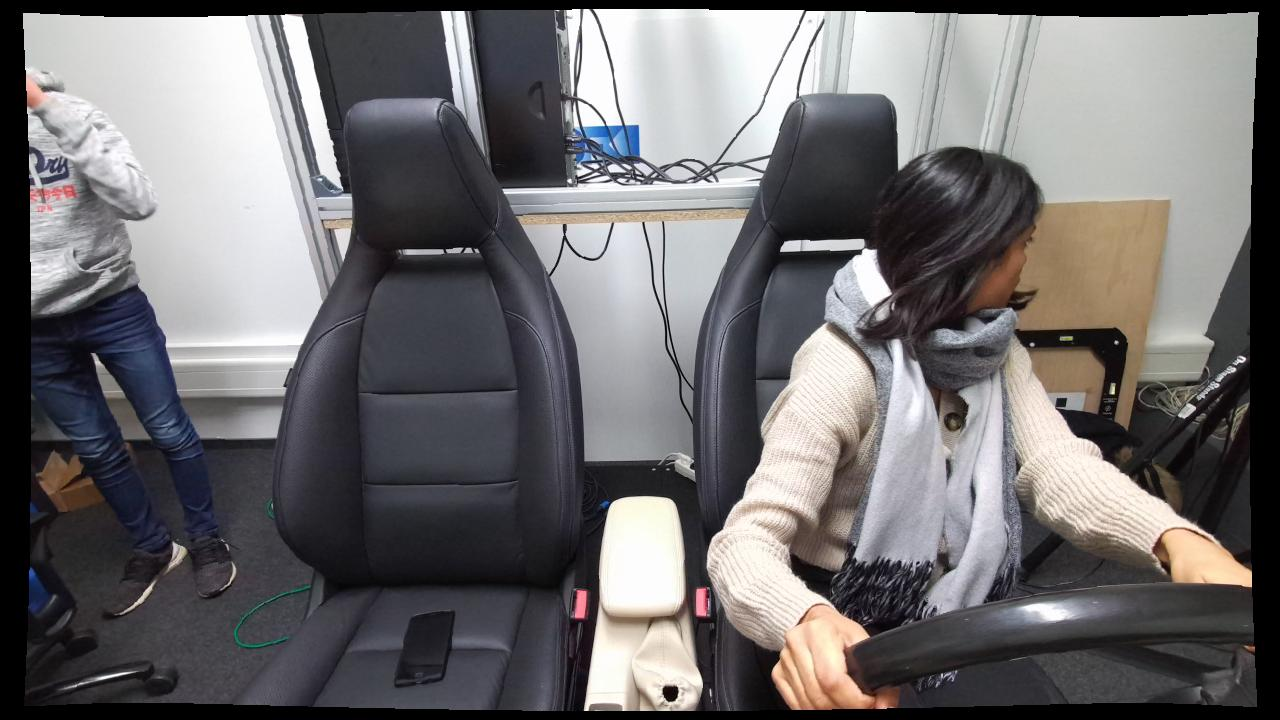Distracted: (713, 138, 1061, 708)
